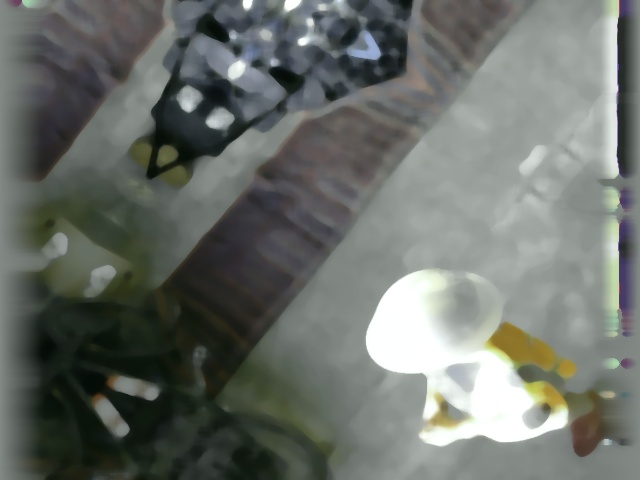eight: (434, 262, 486, 305)
